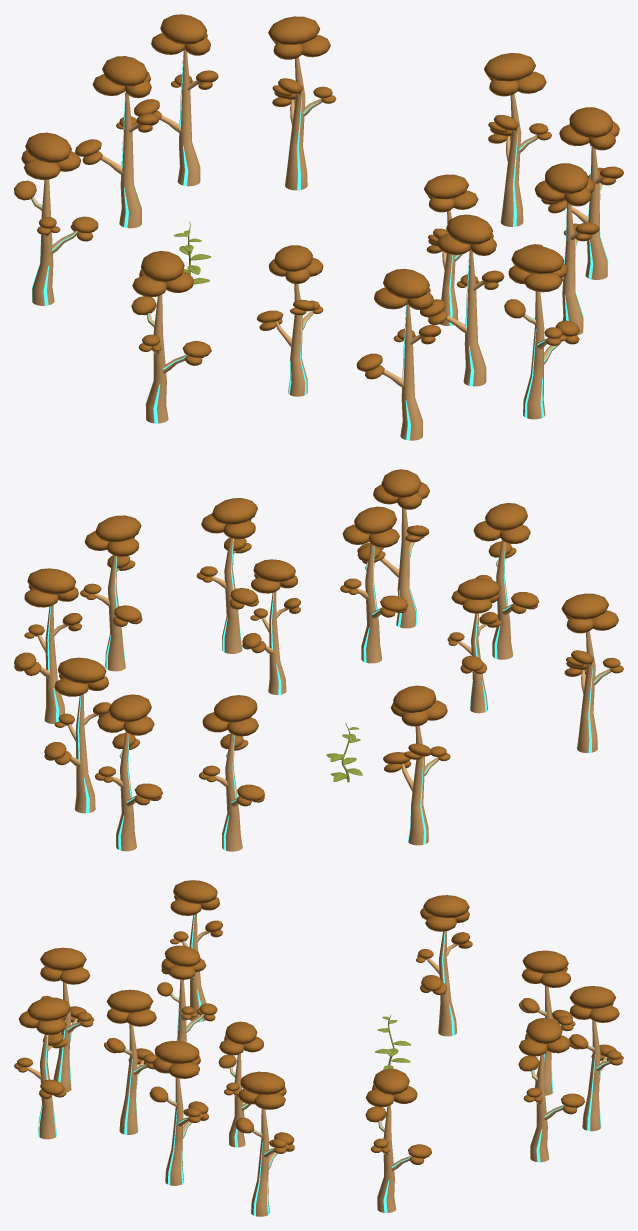
Rendered from Blocking_Zone2_Present.fbx.
3 views of the same model, one above another, from view 1: azimuth 30°, elevation 25°; view 2: azimuth 150°, elevation 25°; view 3: azimuth 270°, elevation 25° (orthographic). The views are drawn at different scales.
Visible parts, largest first — view 1: ArbreV.238, ArbreV.244, ArbreV.243, ArbreV.245, ArbreV.241, ArbreV.240, ArbreV.242, ArbreV.235, ArbreV.246, ArbreV.239, ArbreV.237, ArbreV.234 (+1 smaller); view 2: ArbreV.235, ArbreV.246, ArbreV.242, ArbreV.243, ArbreV.241, ArbreV.240, ArbreV.239, ArbreV.237, ArbreV.238, ArbreV.245, ArbreV.244, ArbreV.236 (+1 smaller); view 3: ArbreV.241, ArbreV.240, ArbreV.237, ArbreV.239, ArbreV.243, ArbreV.246, ArbreV.235, ArbreV.244, ArbreV.245, ArbreV.242, ArbreV.238, ArbreV.234 (+1 smaller).
Part boxes in pixels (x1,y1,x2,y2): ArbreV.238: (131, 251, 211, 423); ArbreV.244: (504, 246, 579, 419); ArbreV.243: (14, 132, 98, 305); ArbreV.245: (356, 268, 441, 440); ArbreV.241: (268, 16, 336, 190); ArbreV.240: (484, 53, 551, 226); ArbreV.242: (75, 56, 159, 228); ArbreV.235: (420, 214, 504, 386); ArbreV.246: (134, 14, 218, 186); ArbreV.239: (541, 107, 623, 279); ArbreV.237: (523, 163, 599, 335); ArbreV.234: (257, 245, 323, 396); ArbreV.235: (340, 506, 408, 663); ArbreV.246: (95, 694, 162, 851); ArbreV.242: (199, 695, 264, 851); ArbreV.243: (383, 685, 450, 845); ArbreV.241: (44, 657, 110, 813); ArbreV.240: (14, 568, 82, 723); ArbreV.239: (80, 515, 142, 671); ArbreV.237: (196, 498, 258, 653); ArbreV.238: (561, 593, 623, 752); ArbreV.245: (473, 503, 539, 659); ArbreV.244: (357, 469, 429, 628); ArbreV.236: (242, 559, 300, 694); ArbreV.241: (518, 1018, 584, 1162); ArbreV.240: (365, 1068, 431, 1212); ArbreV.237: (149, 1040, 208, 1185); ArbreV.239: (235, 1071, 294, 1216); ArbreV.243: (416, 895, 472, 1036); ArbreV.246: (568, 986, 623, 1131); ArbreV.235: (104, 989, 157, 1134); ArbreV.244: (14, 997, 70, 1139); ArbreV.245: (40, 947, 94, 1092); ArbreV.242: (519, 950, 575, 1095); ArbreV.238: (161, 880, 222, 1022); ArbreV.234: (157, 945, 217, 1042).
Bounding box in the file's own units: 57.39 × 16.84 × 68.27.
